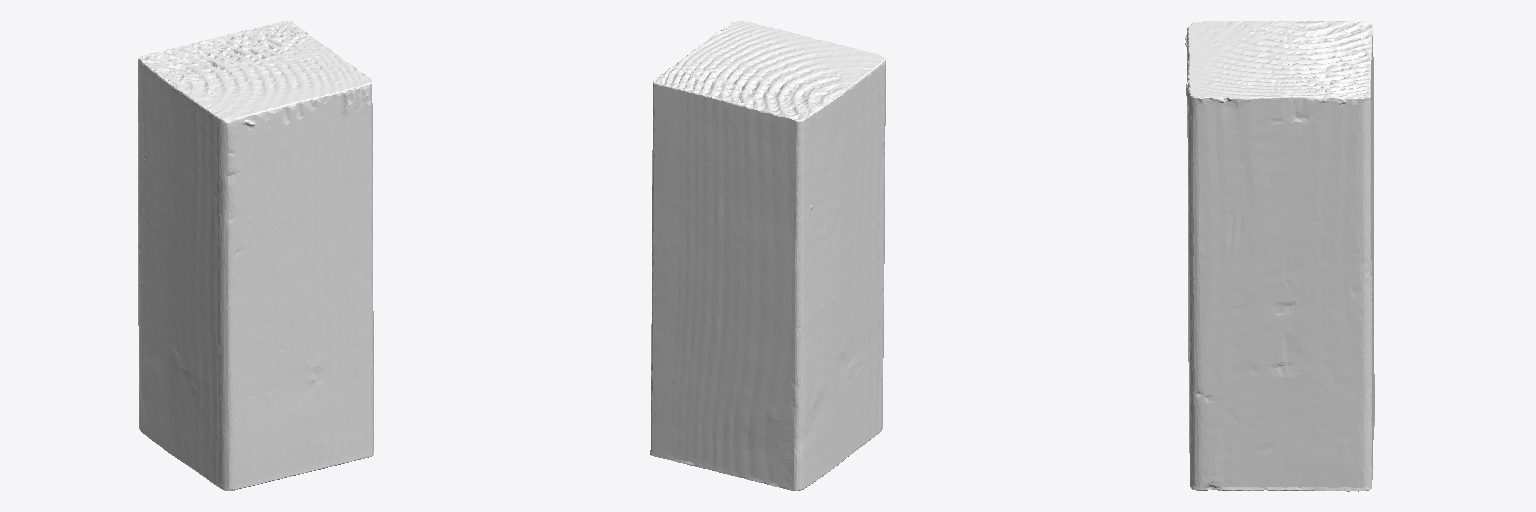
The robot description file, URDF, robot "phillips_screwdriver":
<robot name="phillips_screwdriver">
	<link name="base_link">
		<visual>
			<origin xyz="-0.0026626279153952586 -0.02222386939344705 -0.01637227553798352" rpy="0.0 0.0 0.0" />
			<geometry>
				<mesh filename="043_phillips_screwdriver/google_16k/textured.obj" scale="1 1 1" />
			</geometry>
			<material name="texture">
				<color rgba="1.0 1.0 1.0 1.0" />
			</material>
		</visual>
		<collision>
			<origin xyz="-0.0026626279153952586 -0.02222386939344705 -0.01637227553798352" rpy="0.0 0.0 0.0" />
			<geometry>
				<mesh filename="043_phillips_screwdriver/google_16k/textured_vhacd.obj" scale="1 1 1" />
			</geometry>
		</collision>
		<inertial>
			<mass value="0.097" />
			<inertia ixx="1e-3" ixy="0.0" ixz="0.0" iyy="1e-3" iyz="0.0" izz="1e-3" />
		</inertial>
	</link>
</robot>

--- Facts derived from the render (not from the file) ---
The picture shows the robot from 3 angles, left to right: view 1: azimuth 30°, elevation 25°; view 2: azimuth 150°, elevation 25°; view 3: azimuth 270°, elevation 25°; orthographic projection.
Robot: phillips_screwdriver — 1 links, 0 joints (none); root link base_link; default pose: every joint at zero.
Links seen in each view (by area): view 1: base_link; view 2: base_link; view 3: base_link.
Boxes of the visible links, x1,y1,x2,y2 form: base_link: (138,21,373,490); base_link: (650,21,885,490); base_link: (1185,20,1374,491).
Size in the robot's own frame: 0.0906 by 0.0899 by 0.206 metres.
Meshes: 1 distinct files referenced, 1 mesh visuals loaded (1 OBJ).